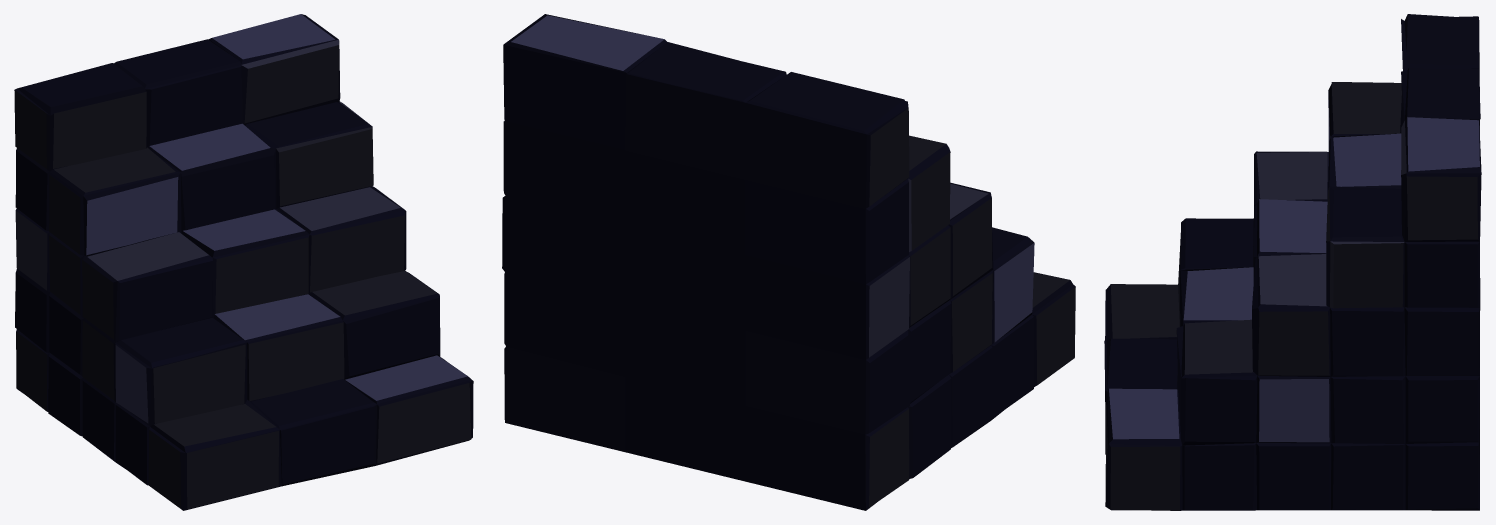
Rendered from stairs.fbx.
3 views of the same model, side by side, from view 1: azimuth 30°, elevation 25°; view 2: azimuth 150°, elevation 25°; view 3: azimuth 270°, elevation 25° (orthographic). The views are drawn at different scales.
Parts seen in each view (by area): view 1: stairs; view 2: stairs; view 3: stairs.
Boxes of the visible parts, bbox=[...] form: stairs: bbox=[14, 14, 473, 510]; stairs: bbox=[502, 14, 1075, 510]; stairs: bbox=[1104, 14, 1481, 510].
Size of the model in its own units: 205 by 204 by 203.
